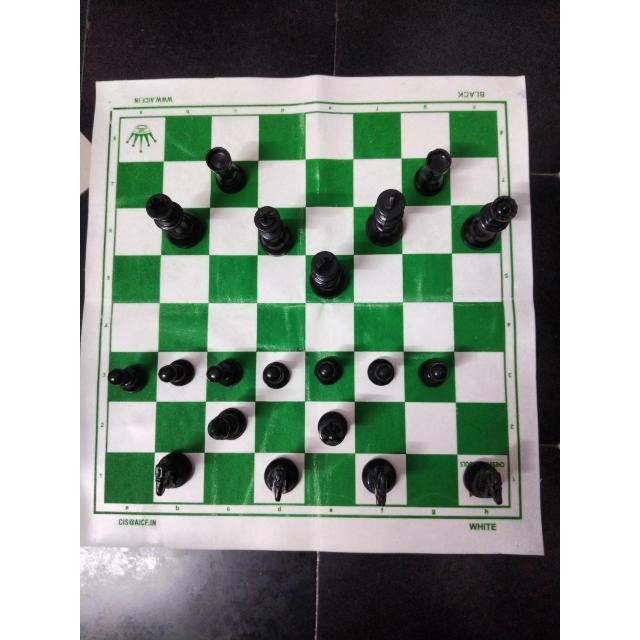black-bishop: (204, 404, 254, 453), (307, 404, 351, 456)
black-king: (141, 190, 209, 254), (360, 185, 408, 251), (251, 203, 300, 259), (306, 247, 353, 302)
black-knight: (460, 456, 510, 513), (356, 457, 407, 509), (149, 452, 196, 501), (256, 457, 303, 502)
black-pawn: (106, 356, 152, 403), (203, 356, 250, 396), (408, 352, 454, 391), (260, 356, 302, 398), (156, 355, 197, 394), (359, 351, 401, 389), (310, 352, 349, 391)
black-queen: (457, 192, 521, 249)
black-rook: (200, 142, 256, 196), (407, 143, 454, 200)
